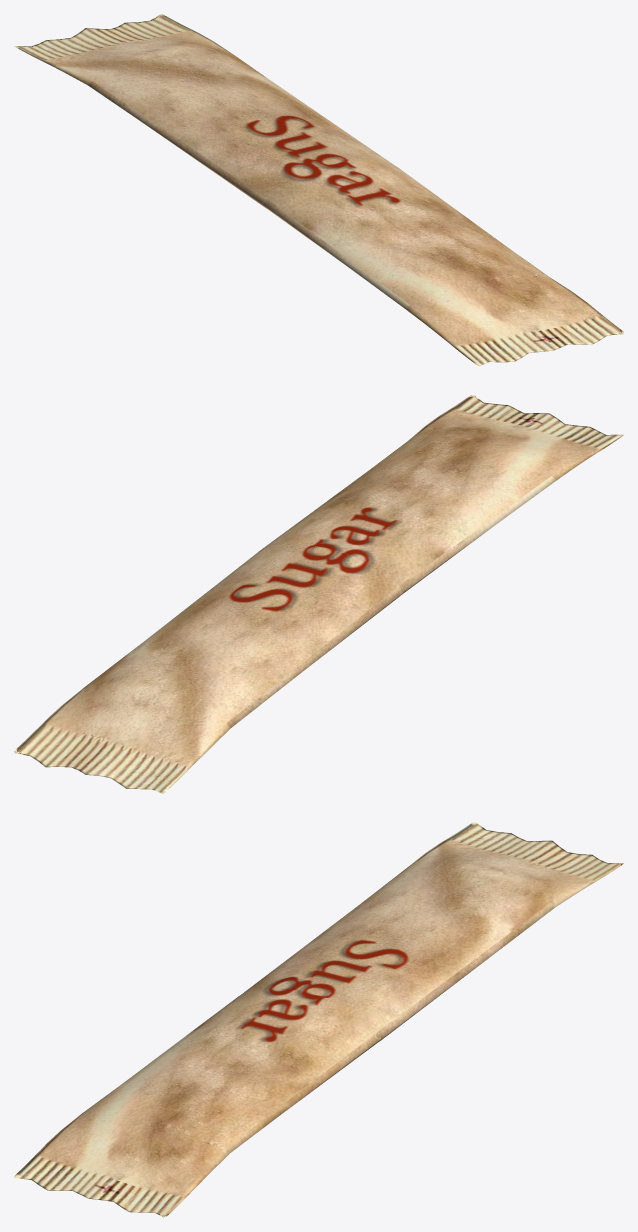
The model's file is Sugar.fbx.
3 views of the same model, one above another, from view 1: azimuth 30°, elevation 25°; view 2: azimuth 150°, elevation 25°; view 3: azimuth 330°, elevation 25° (orthographic). The views are drawn at different scales.
Visible parts, largest first — view 1: Sugar; view 2: Sugar; view 3: Sugar.
Part boxes in pixels (left/top/right/bottom): Sugar: left=14, top=14, right=623, bottom=366; Sugar: left=14, top=395, right=623, bottom=793; Sugar: left=14, top=822, right=623, bottom=1217.
Bounding box in the file's own units: 0.7079 × 0.2009 × 3.39.
Materials: 1 (1 with a texture image).
